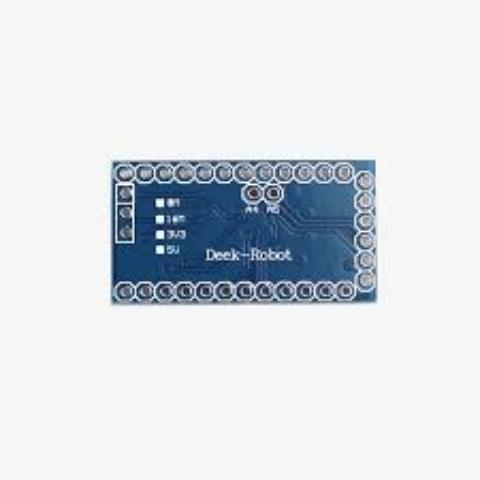Arduino-Pro-Mini: (105, 138, 384, 334)
